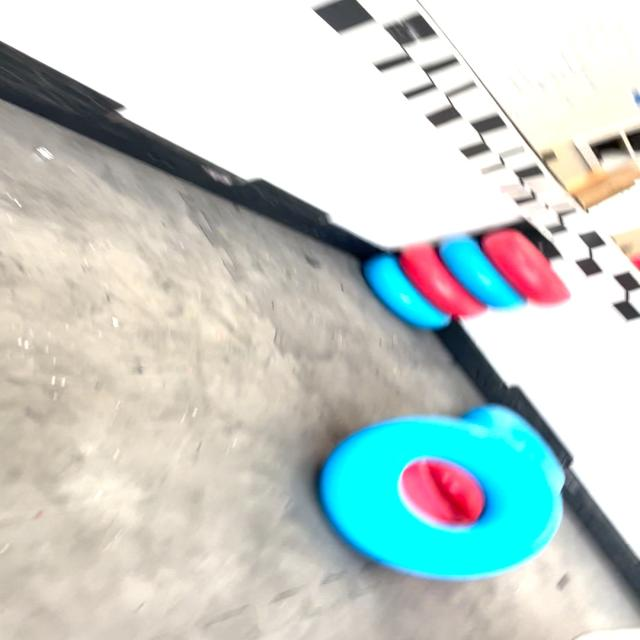Blue-Ring: (325, 411, 567, 576), (462, 405, 564, 493), (362, 254, 451, 329), (440, 234, 524, 309), (509, 418, 513, 420)
Red-Ring: (482, 229, 571, 306), (400, 242, 487, 318)
